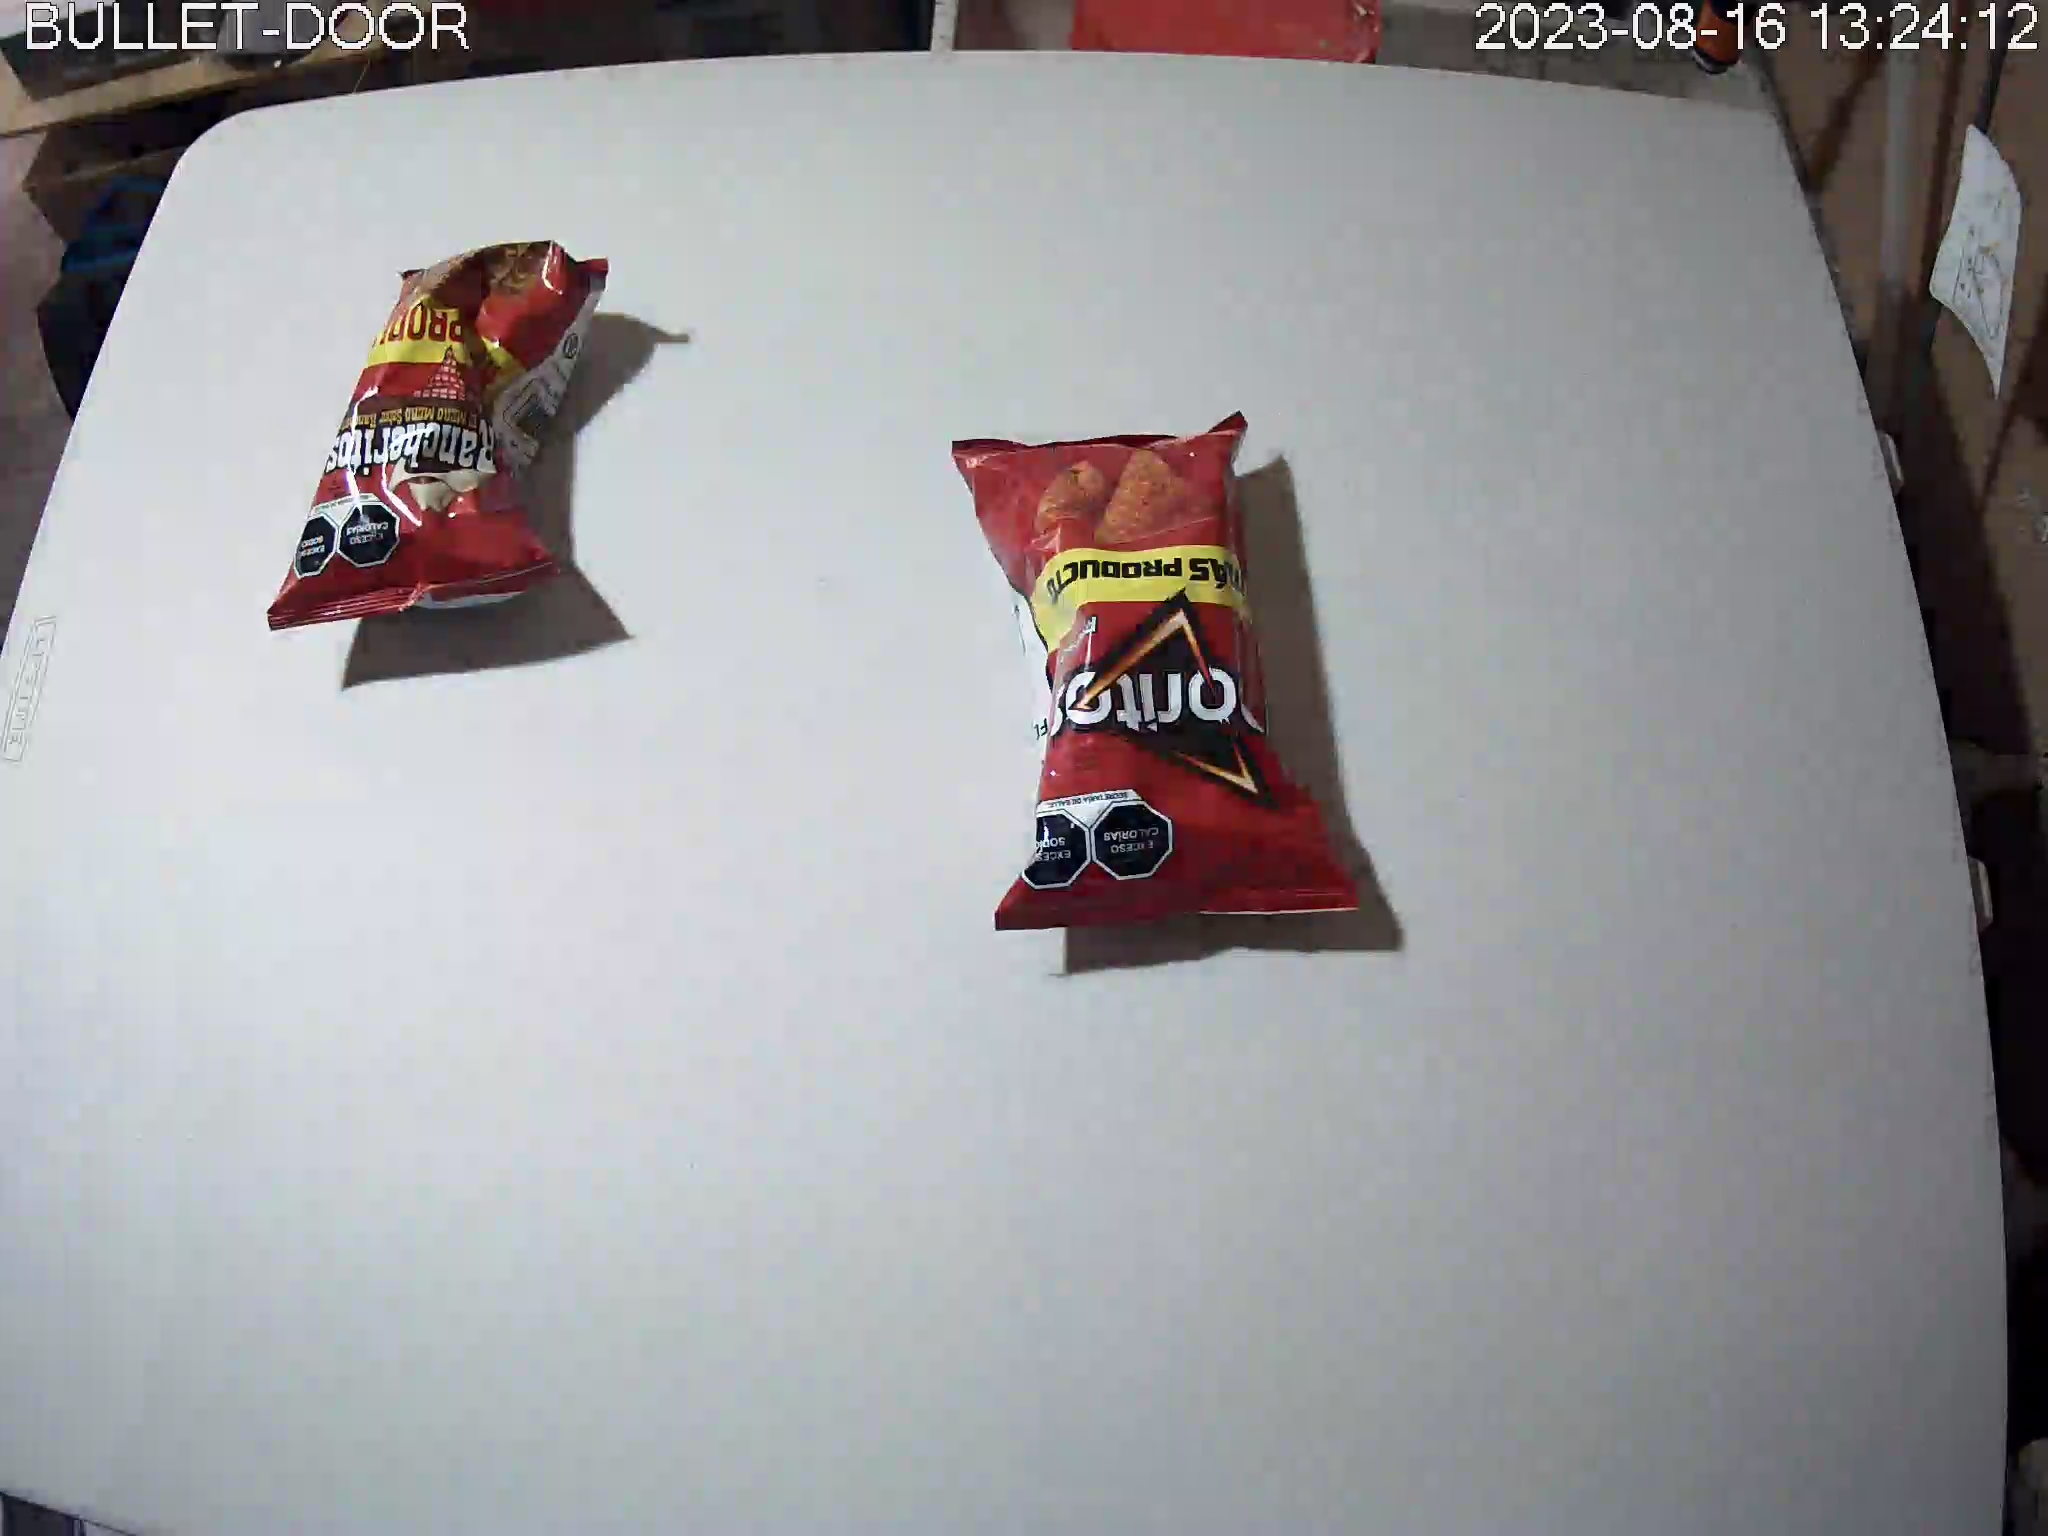DoritosN_61_F: (951, 410, 1361, 931)
Rancheritos_58_F: (269, 240, 610, 632)
